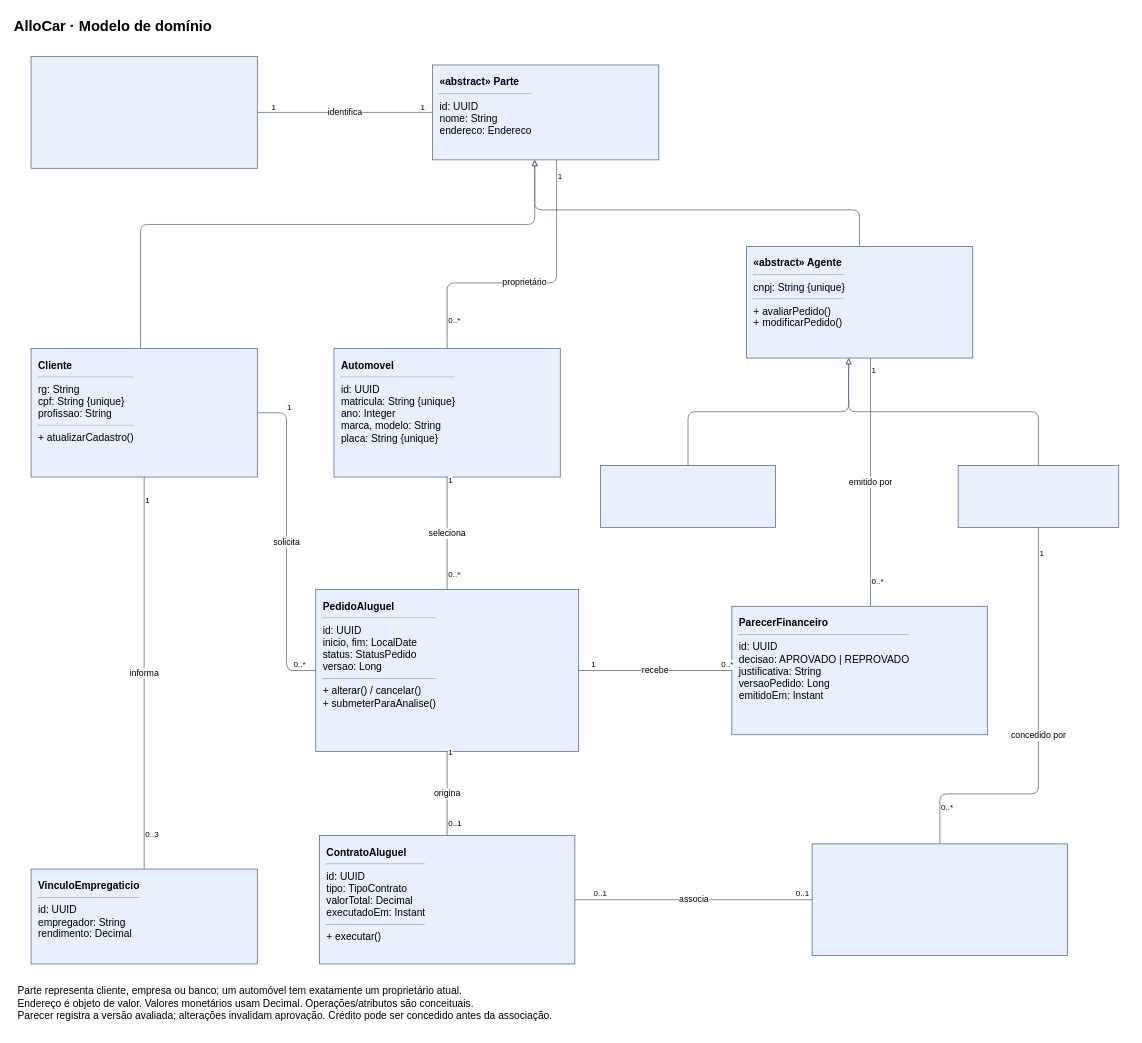
The diagram is 1142 pixels wide and 1043 high, and some of its shapes have lost their labels. The shapes that lost their labels are listed below. From the top down, each one's centre as x and y in pixels, then its label:
the point at 143,112: Conta id: UUID usuario: String {unique} senhaHash: String ativa: boolean
the point at 688,496: Empresa tipo: EMPRESA
the point at 1038,496: Banco tipo: BANCO
the point at 939,899: ContratoCredito id: UUID numero: String valor: Decimal taxa: Decimal
